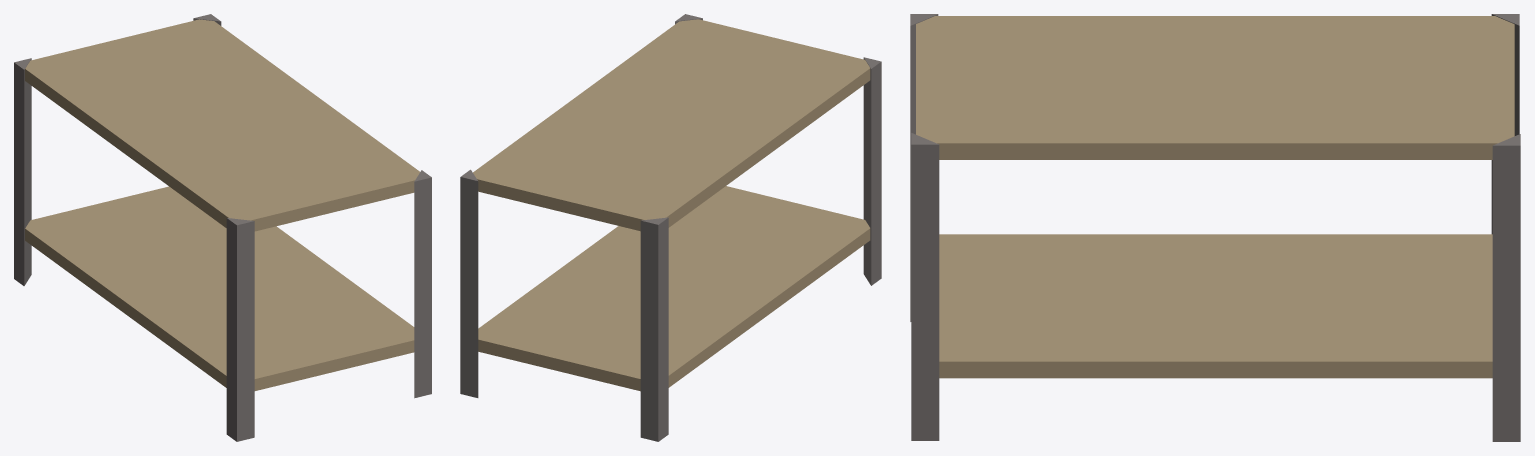
File: SM_Bed_01.fbx
The picture shows the model from 3 angles, left to right: view 1: azimuth 30°, elevation 25°; view 2: azimuth 150°, elevation 25°; view 3: azimuth 270°, elevation 25°; orthographic projection. The views are drawn at different scales.
Parts seen in each view (by area): view 1: SM_Bed_01; view 2: SM_Bed_01; view 3: SM_Bed_01.
Boxes of the visible parts, box(x1,y1,x2,y2) form: SM_Bed_01: box(14, 14, 431, 441); SM_Bed_01: box(460, 14, 881, 441); SM_Bed_01: box(910, 14, 1520, 441).
Bounding box in the file's own units: 135 × 142 × 265.
1 material, 1 textured.
